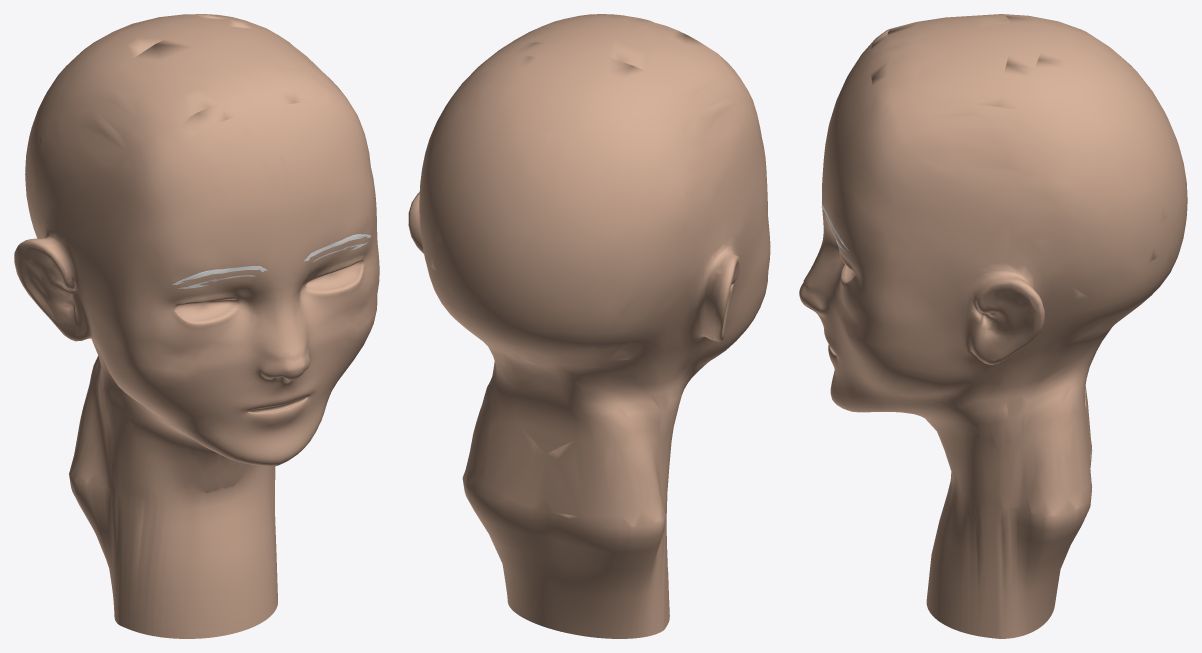
Rendered from lingya-head.glb.
3 renders of one model, left to right at view 1: azimuth 30°, elevation 25°; view 2: azimuth 150°, elevation 25°; view 3: azimuth 270°, elevation 25°, orthographic.
Parts seen in each view (by area): view 1: Lingya-head, Lingya-eyebrows; view 2: Lingya-head; view 3: Lingya-head.
Boxes of the visible parts, bbox=[...] form: Lingya-head: bbox=[14, 14, 379, 638]; Lingya-eyebrows: bbox=[172, 234, 371, 288]; Lingya-head: bbox=[408, 14, 770, 638]; Lingya-head: bbox=[799, 14, 1187, 638].
Bounding box in the file's own units: 0.1816 × 0.3075 × 0.1905.
